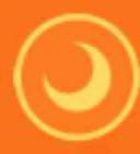ImgButton: (1, 1, 139, 153)
